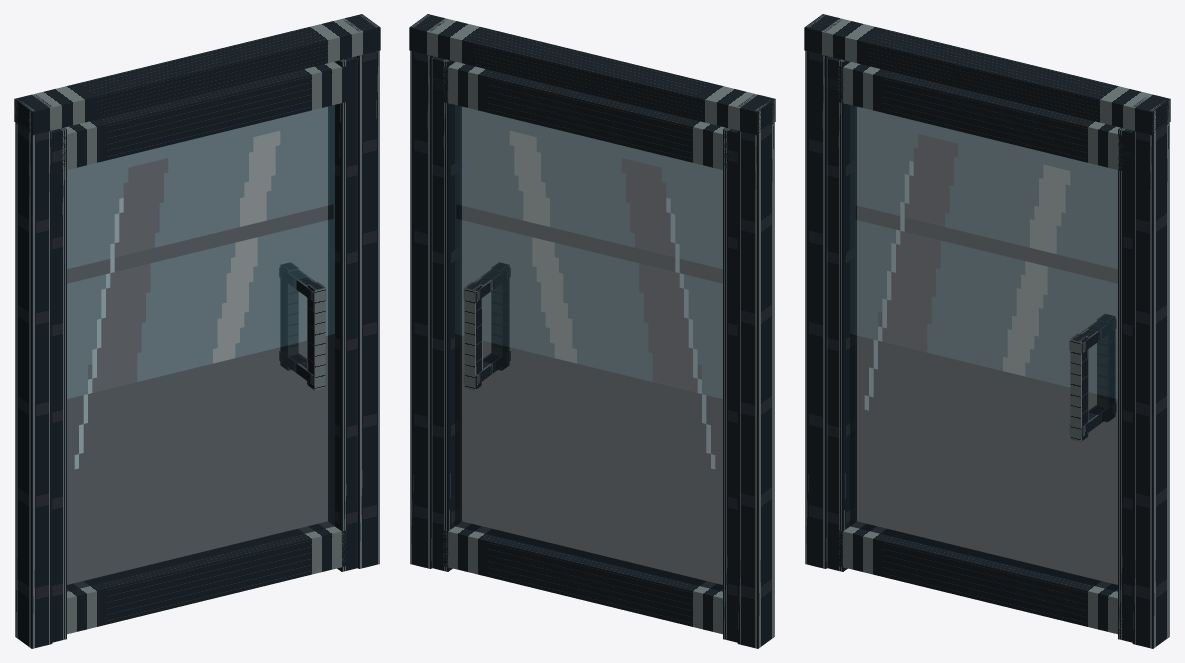
The model's file is puerta_cristal_tintada.glb.
The picture shows the model from 3 angles, left to right: view 1: azimuth 30°, elevation 25°; view 2: azimuth 150°, elevation 25°; view 3: azimuth 330°, elevation 25°; orthographic projection.
Visible parts, largest first — view 1: HOJA_VIDRIO_A, HOJA_MARCO_A, MARCO_FIJO; view 2: HOJA_VIDRIO_A, HOJA_MARCO_A, MARCO_FIJO; view 3: HOJA_VIDRIO_A, HOJA_MARCO_A, MARCO_FIJO.
Part boxes in pixels (<box>): HOJA_VIDRIO_A: <box>67,105,334,591</box>; HOJA_MARCO_A: <box>52,56,357,642</box>; MARCO_FIJO: <box>14,14,380,648</box>; HOJA_VIDRIO_A: <box>455,105,722,591</box>; HOJA_MARCO_A: <box>432,56,737,642</box>; MARCO_FIJO: <box>409,14,775,648</box>; HOJA_VIDRIO_A: <box>850,105,1117,591</box>; HOJA_MARCO_A: <box>827,56,1132,642</box>; MARCO_FIJO: <box>804,14,1170,648</box>.
Bounding box in the file's own units: 1.52 × 2.25 × 0.264.
2 materials, 2 textured.
